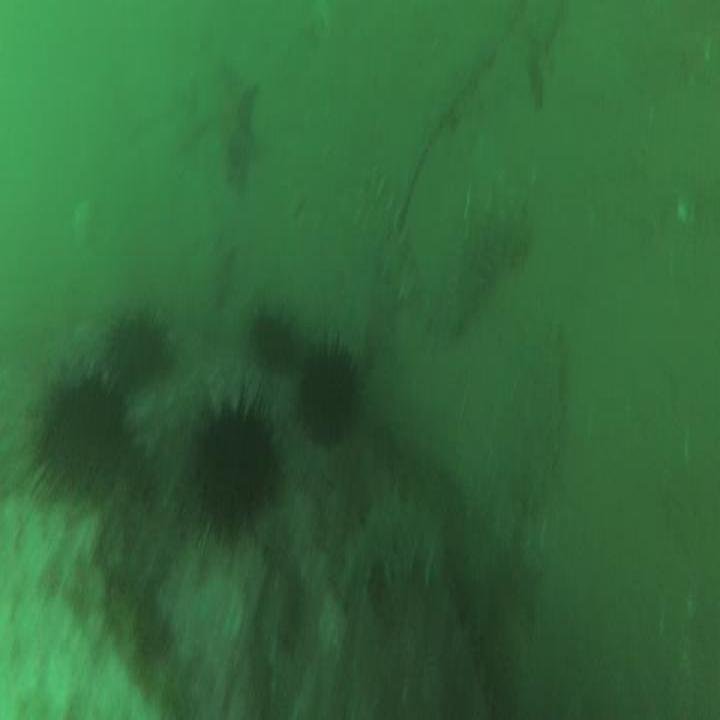echinus: (24, 354, 148, 512), (182, 370, 288, 549), (294, 329, 360, 459), (98, 304, 177, 393), (244, 295, 298, 373)
holothurian: (436, 199, 537, 331), (337, 491, 445, 606), (345, 162, 423, 318), (519, 310, 570, 502)
starfish: (203, 59, 266, 190)
